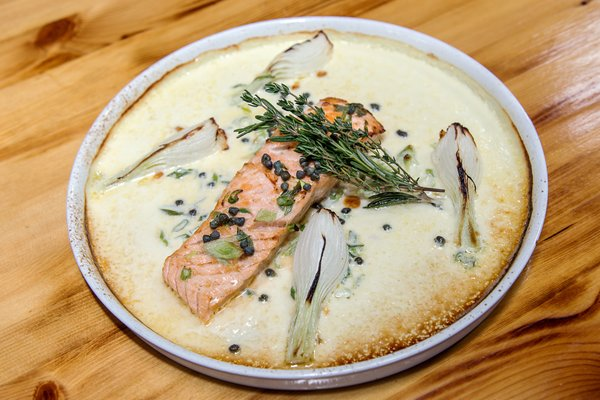curry: (26, 1, 599, 396)
sandwich: (112, 20, 535, 369)
